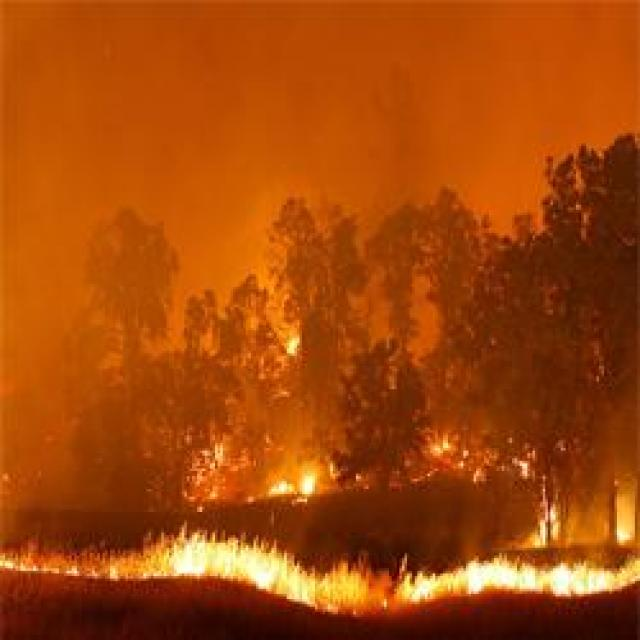fire: (10, 539, 640, 614), (252, 306, 344, 509), (392, 427, 555, 489)
